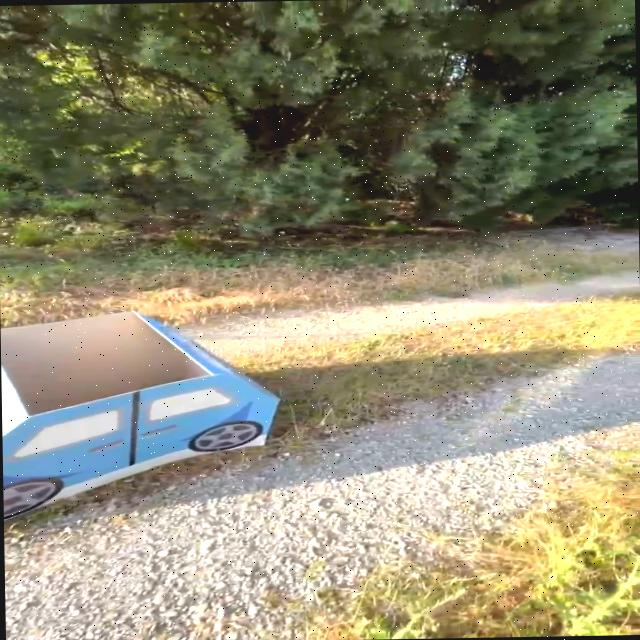blue_car: (0, 269, 324, 540)
